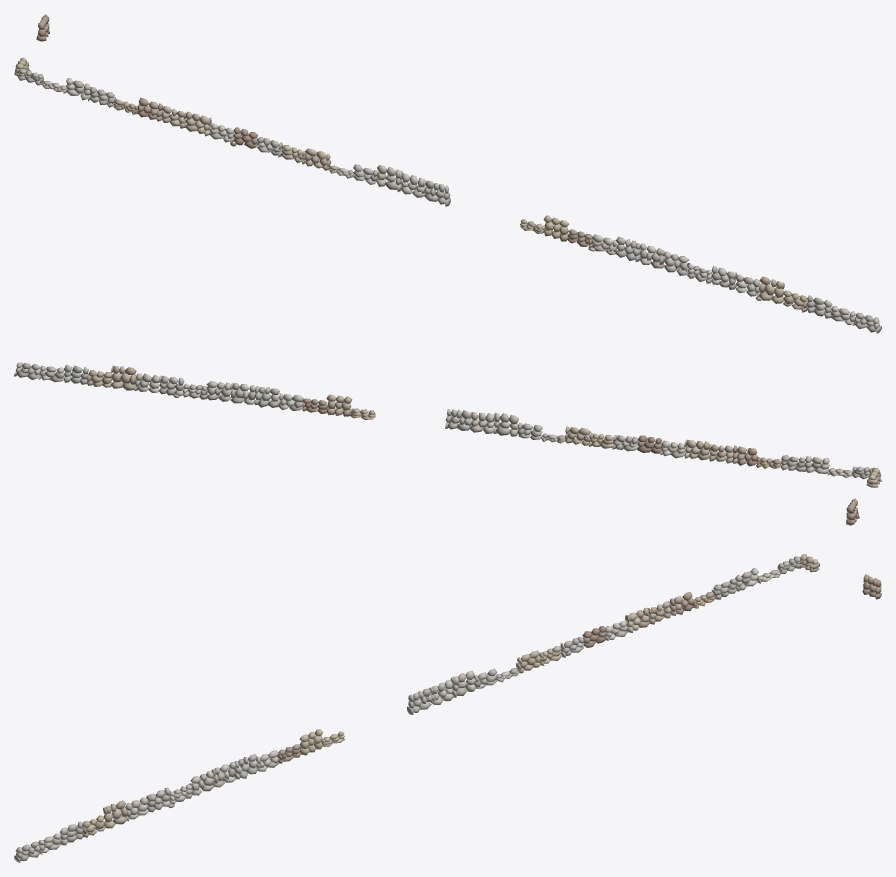
The model's file is farm_-28_-33_near.glb.
3 views of the same model, one above another, from view 1: azimuth 30°, elevation 25°; view 2: azimuth 210°, elevation 25°; view 3: azimuth 270°, elevation 25° (orthographic).
Visible parts, largest first — view 1: geometry_0; view 2: geometry_0; view 3: geometry_0.
Boxes of the visible parts, <box> form: geometry_0: <box>14,14,881,333</box>; geometry_0: <box>14,362,881,525</box>; geometry_0: <box>14,554,881,862</box>.
Size of the model in its own units: 32.47 by 6.24 by 52.93.
